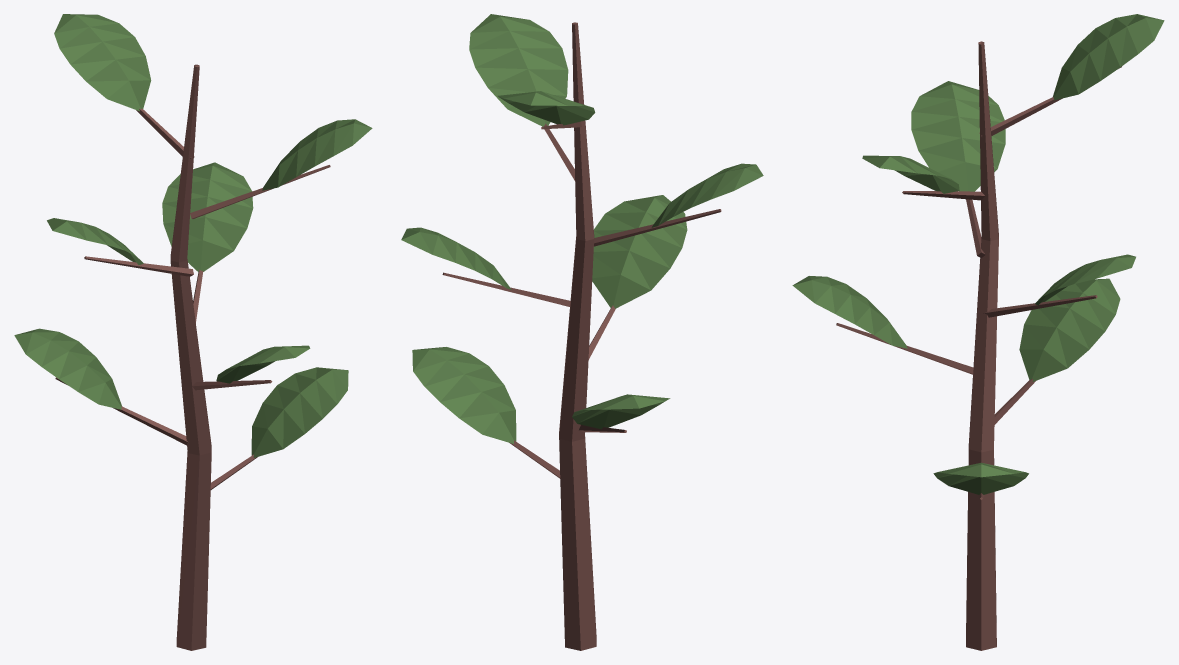
Rendered from cherry_wild_sapling.glb.
3 views of the same model, side by side, from view 1: azimuth 30°, elevation 25°; view 2: azimuth 150°, elevation 25°; view 3: azimuth 270°, elevation 25° (orthographic). The views are drawn at different scales.
Visible parts, largest first — view 1: leaves, branches; view 2: leaves, branches; view 3: leaves, branches.
Part boxes in pixels (x1,y1,x2,y2): leaves: (14,14,372,457); branches: (55,64,330,650); leaves: (401,14,763,443); branches: (442,22,721,650); leaves: (792,14,1164,494); branches: (836,41,1121,650).
Bounding box in the file's own units: 0.3374 × 0.6 × 0.3335.
